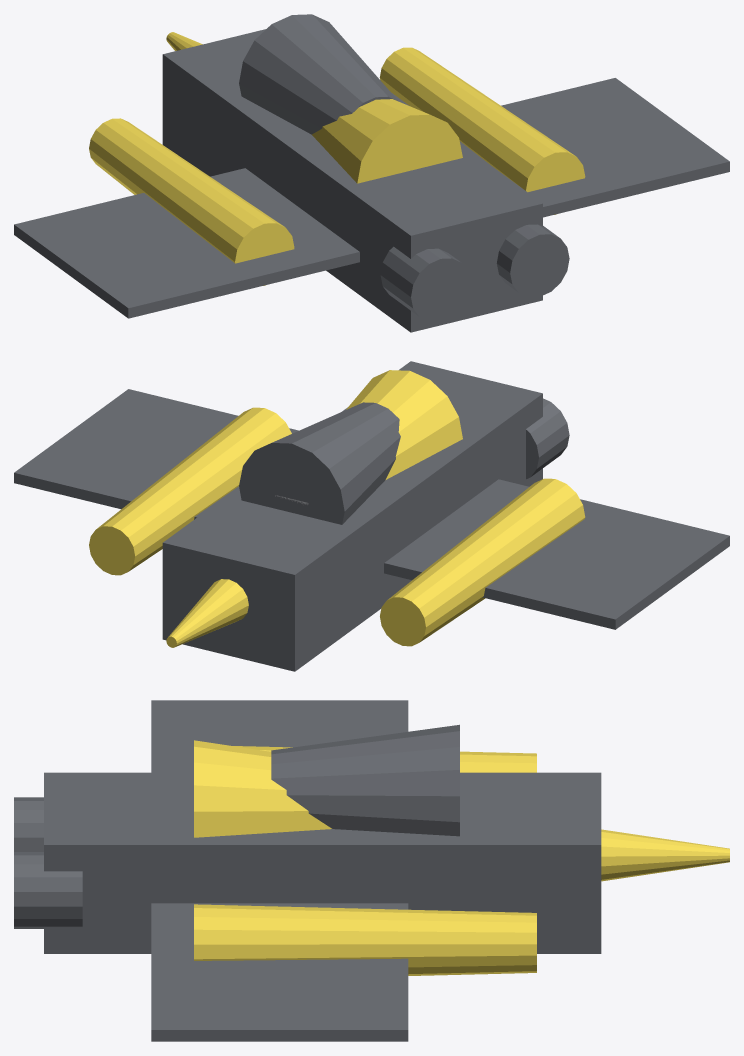
File: openworld_props.glb
The picture shows the model from 3 angles, top to bottom: view 1: azimuth 30°, elevation 25°; view 2: azimuth 150°, elevation 25°; view 3: azimuth 270°, elevation 25°; orthographic projection. The views are drawn at different scales.
Parts seen in each view (by area): view 1: Starship_Vader, Naboo_Greenhouse; view 2: Starship_Vader, Naboo_Greenhouse; view 3: Starship_Vader, Naboo_Greenhouse.
Part boxes in pixels (<box>): Starship_Vader: <box>14,14,729,332</box>; Naboo_Greenhouse: <box>89,32,585,285</box>; Starship_Vader: <box>14,361,729,671</box>; Naboo_Greenhouse: <box>89,370,585,647</box>; Starship_Vader: <box>14,700,601,1041</box>; Naboo_Greenhouse: <box>194,740,729,975</box>.
Size of the model in its own units: 9.1 by 2.6 by 8.35.
